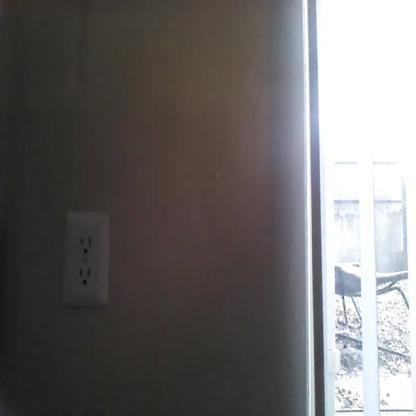OUTLET: (63, 211, 108, 306)
